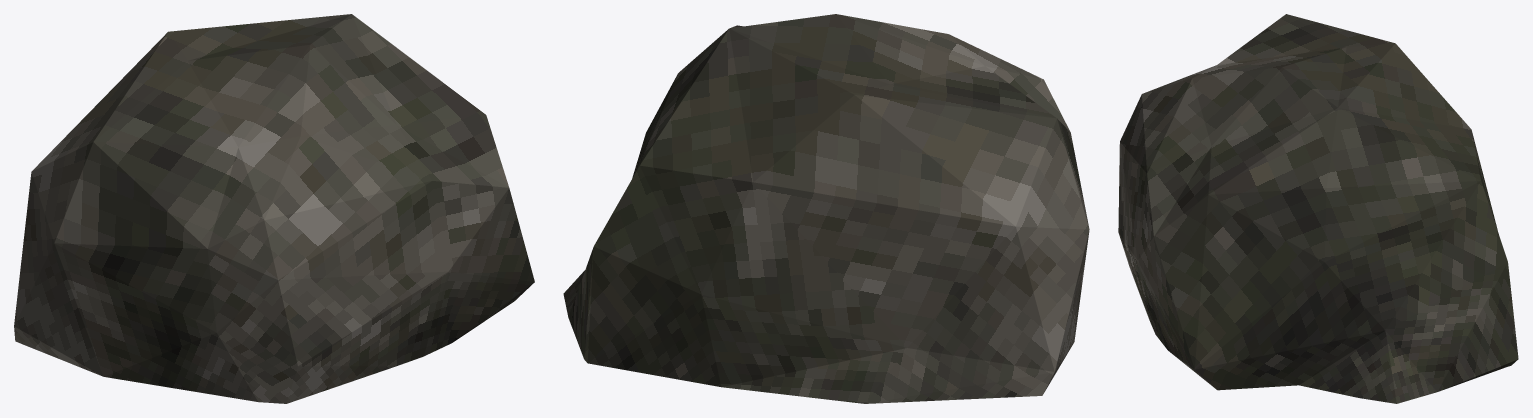
File: small_rocks_04.glb
3 renders of one model, left to right at view 1: azimuth 30°, elevation 25°; view 2: azimuth 150°, elevation 25°; view 3: azimuth 270°, elevation 25°, orthographic. The views are drawn at different scales.
Parts seen in each view (by area): view 1: small_rocks_04; view 2: small_rocks_04; view 3: small_rocks_04.
Boxes of the visible parts, box(x1,y1,x2,y2) form: small_rocks_04: box(14, 14, 534, 403); small_rocks_04: box(563, 14, 1089, 403); small_rocks_04: box(1118, 14, 1518, 403).
Size of the model in its own units: 3.26 by 1.87 by 2.74.
Materials: 1 (1 with a texture image).
